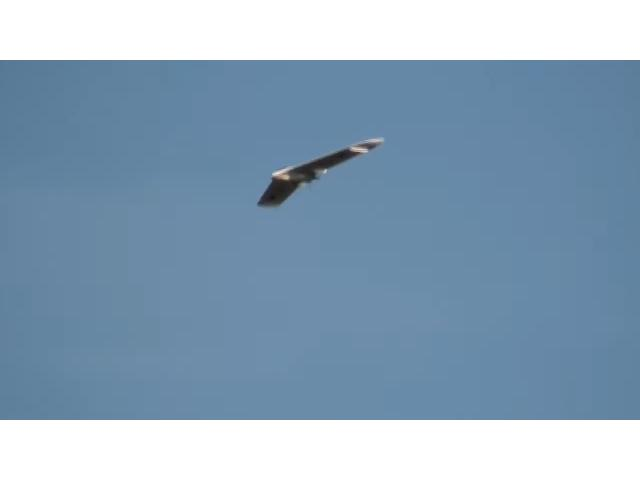Anti-Drone: (258, 137, 382, 211)
